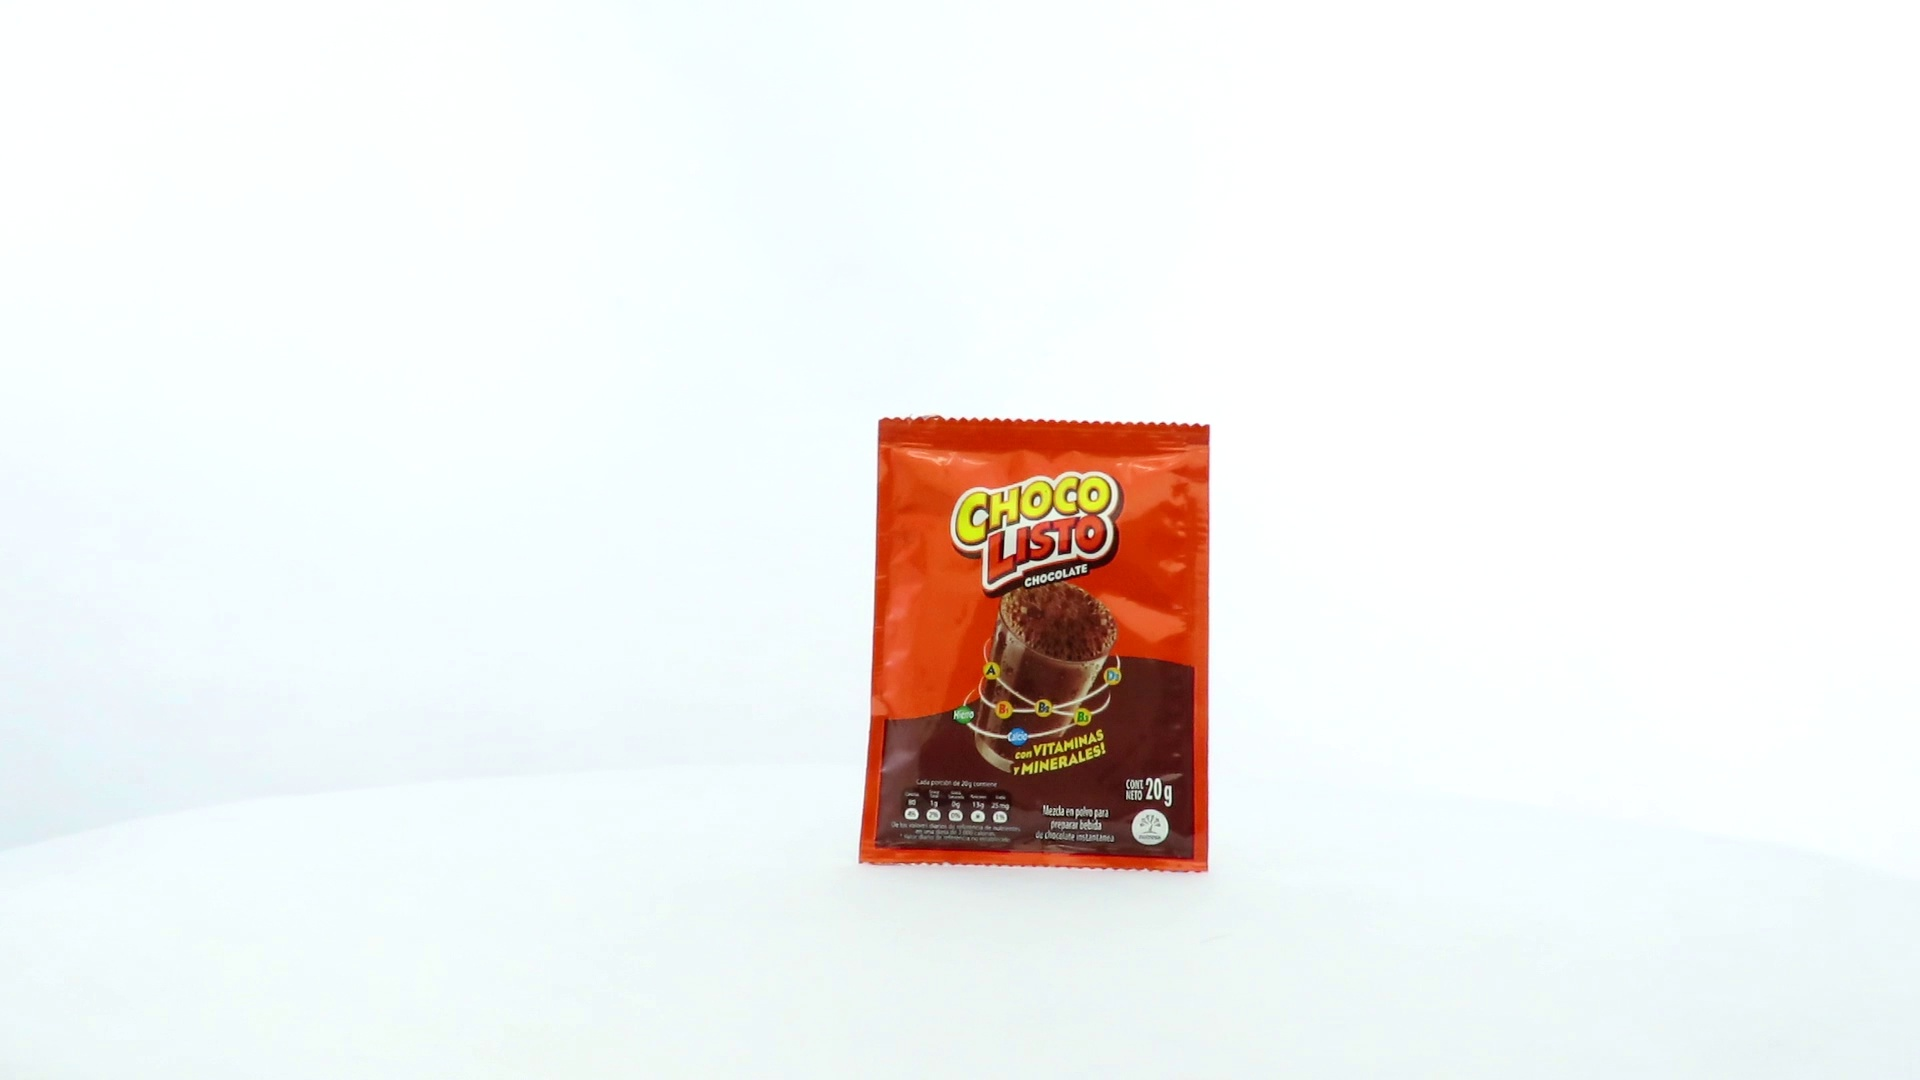COL0170103SOB02000: (853, 410, 1216, 880)
